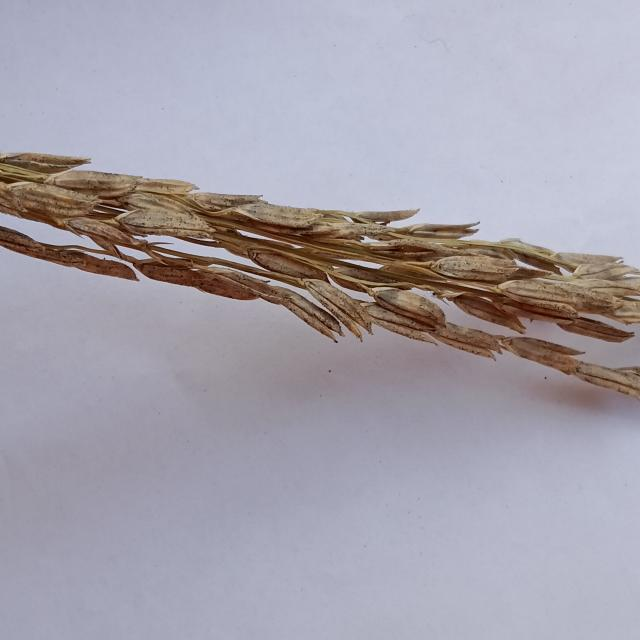Neck_Blast: (1, 161, 629, 340), (0, 224, 637, 395)
